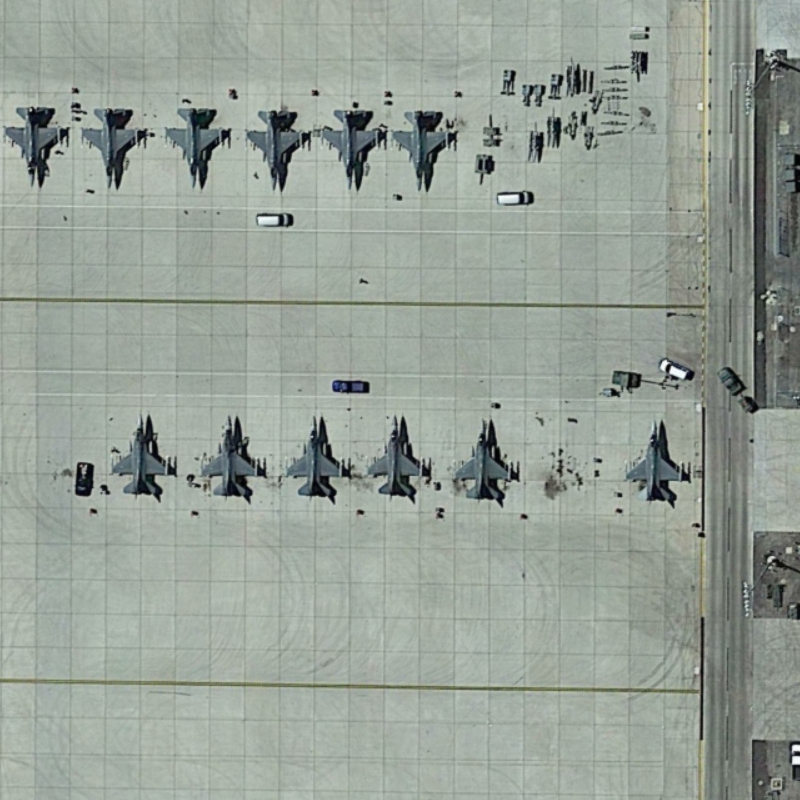A5: (446, 406, 524, 507), (110, 400, 181, 506), (240, 100, 316, 197), (193, 411, 271, 505), (158, 100, 235, 194), (312, 104, 389, 197), (621, 411, 693, 510), (358, 407, 432, 503), (282, 411, 352, 507), (2, 100, 75, 190), (77, 101, 149, 192), (386, 105, 455, 192)
